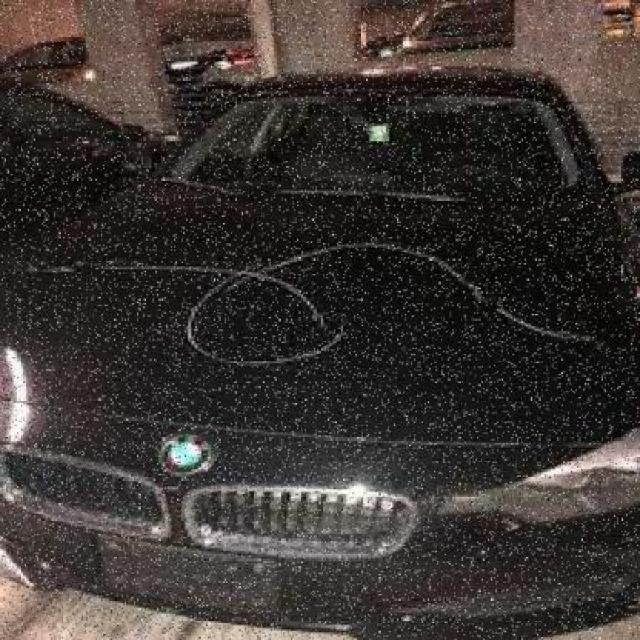bonnet-dent: (11, 198, 638, 490)
